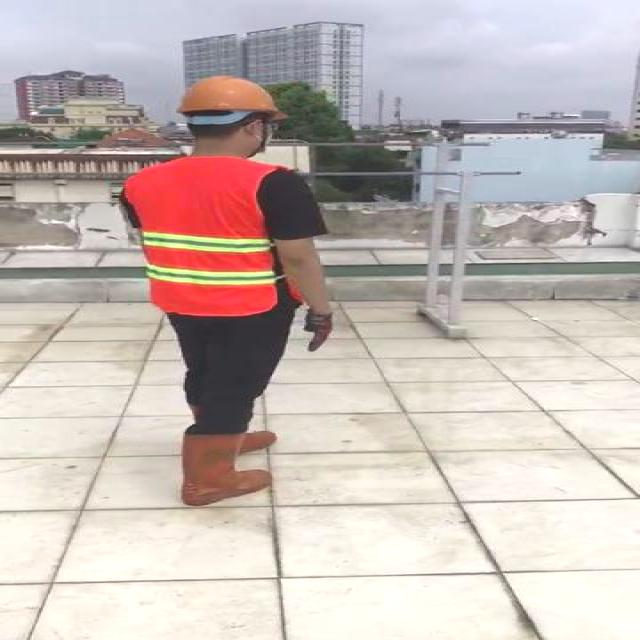boots: (180, 426, 274, 506)
hand_glove: (300, 310, 334, 351)
head_helmet: (172, 72, 294, 116)
person: (107, 70, 341, 515)
vest: (126, 158, 292, 315)
